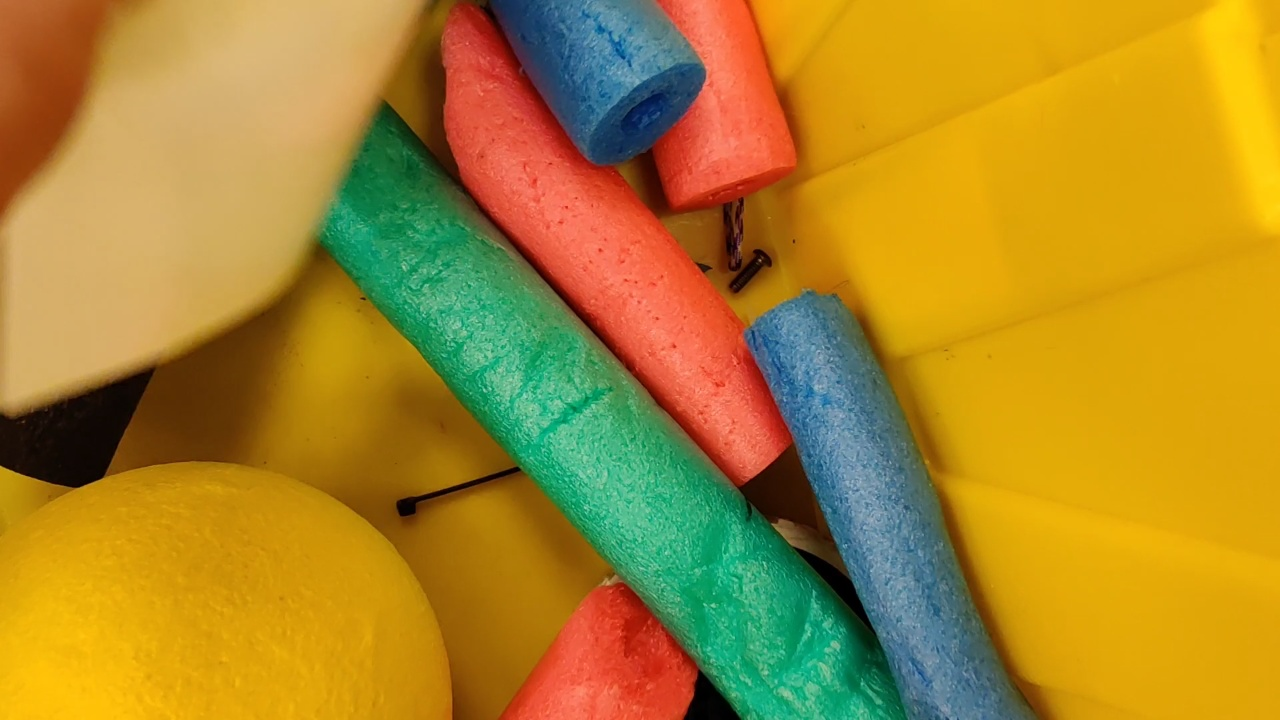Ball: (3, 459, 455, 720)
